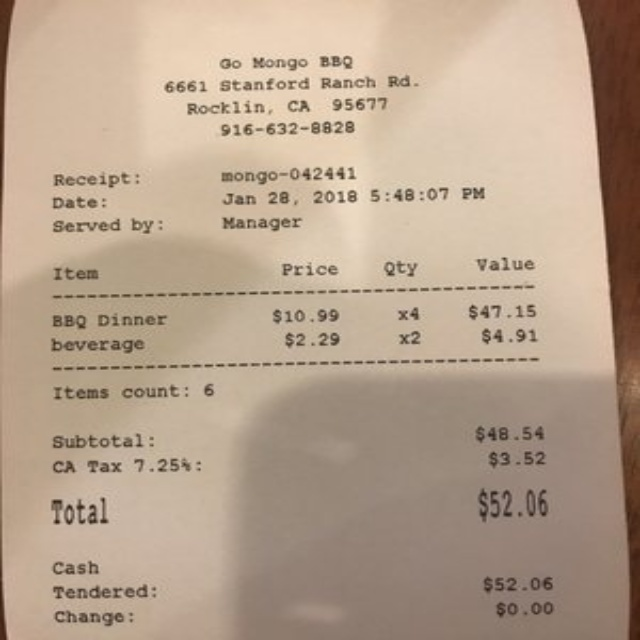invoice_table: (49, 301, 543, 353)
invoice_title: (162, 52, 423, 138)
invoice_total: (48, 488, 552, 527)
